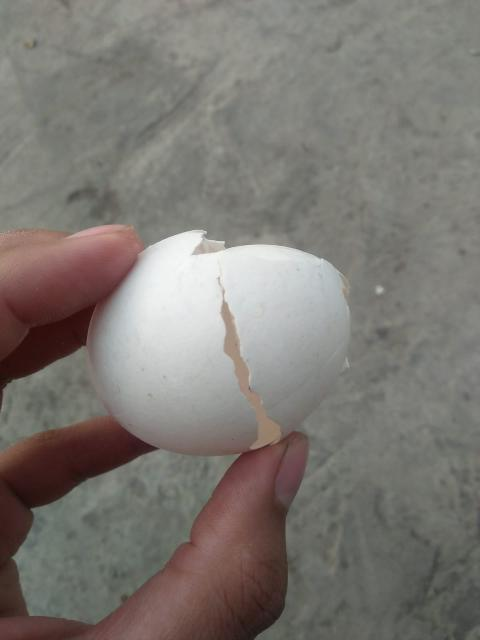Roto: (84, 228, 352, 457)
